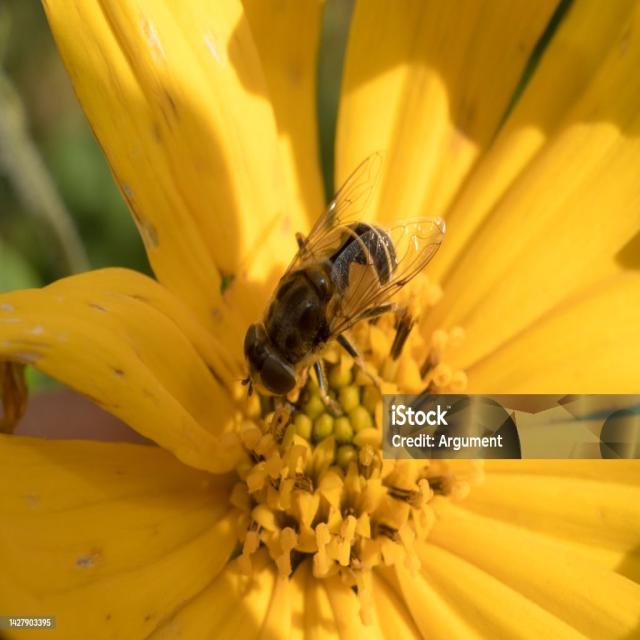hoverfly: (227, 148, 444, 409)
